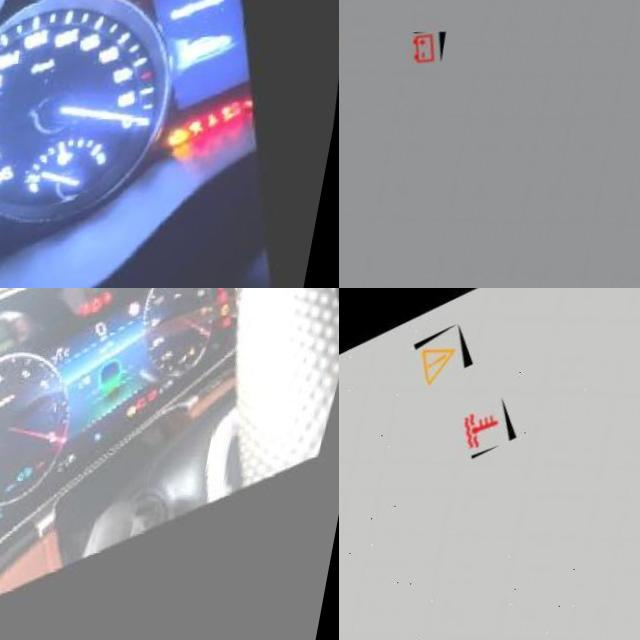Low fuel level: (205, 344, 212, 352)
